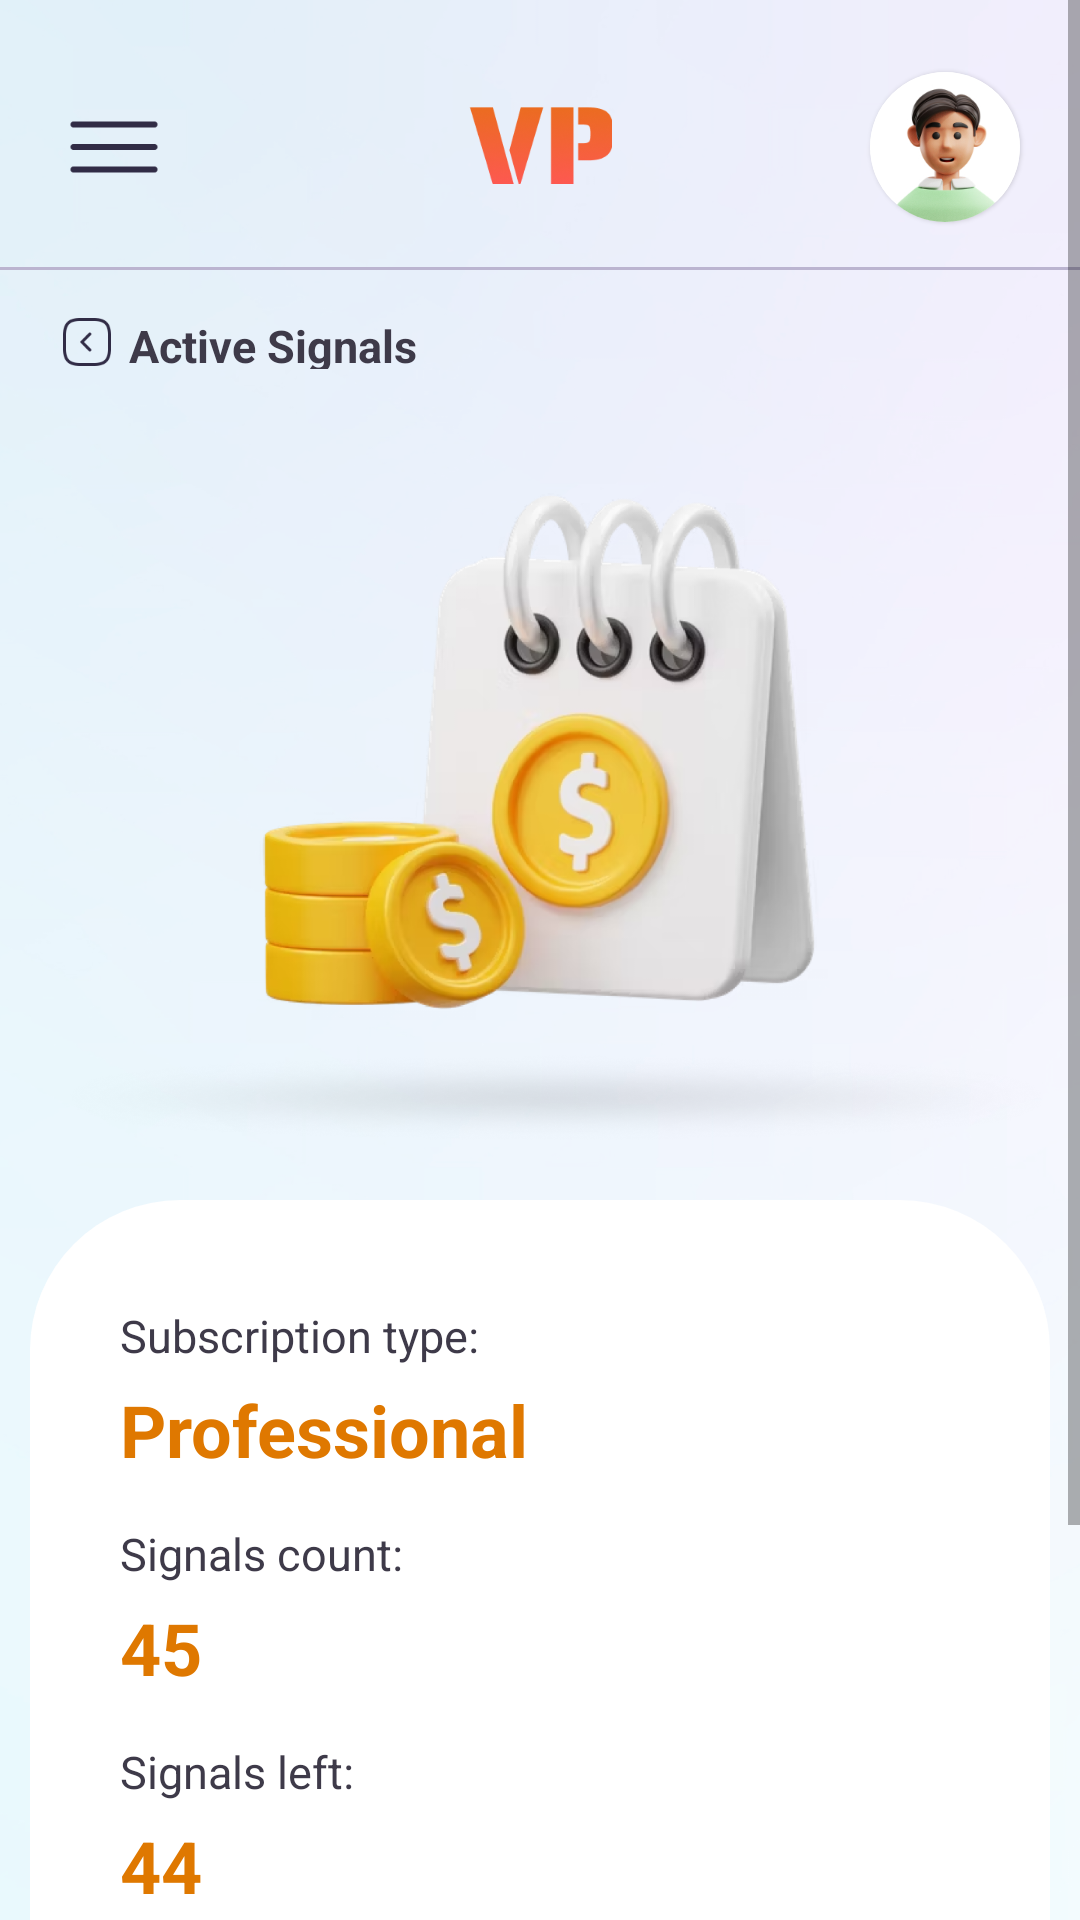

Icon click points for this 1080px×1920px phone screenshot, format (x,y):
arrowleft: (87,342)
manavatar: (945,155)
menu: (114,147)
